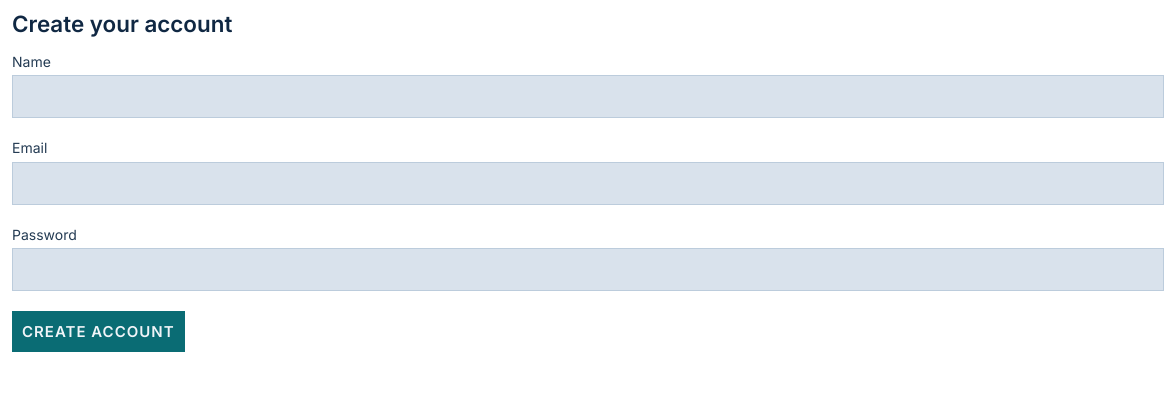
Test case: Signup workflow › shows email validation error after blurring with an invalid email
Type "bad-email" into the field labelled "Email" at (588, 183), box [12,162,1164,205]
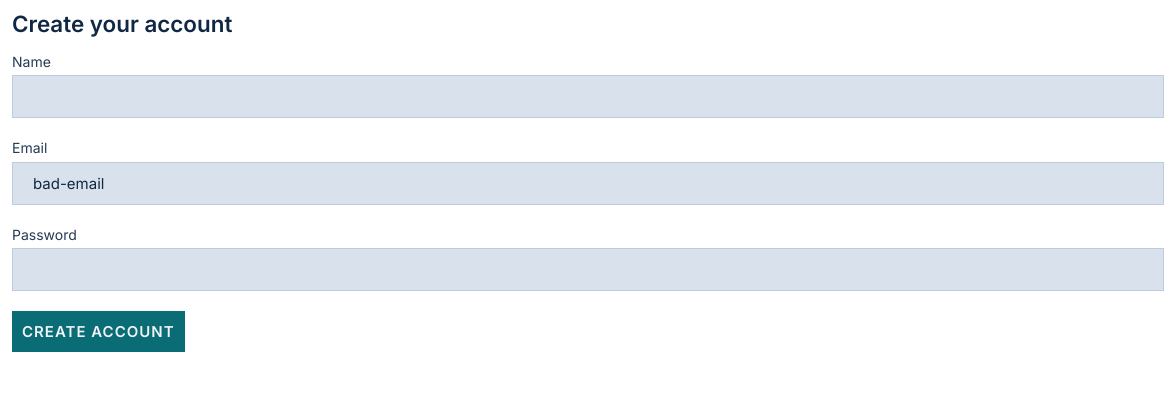
Leave the field labelled "Email", box [12,162,1164,205]
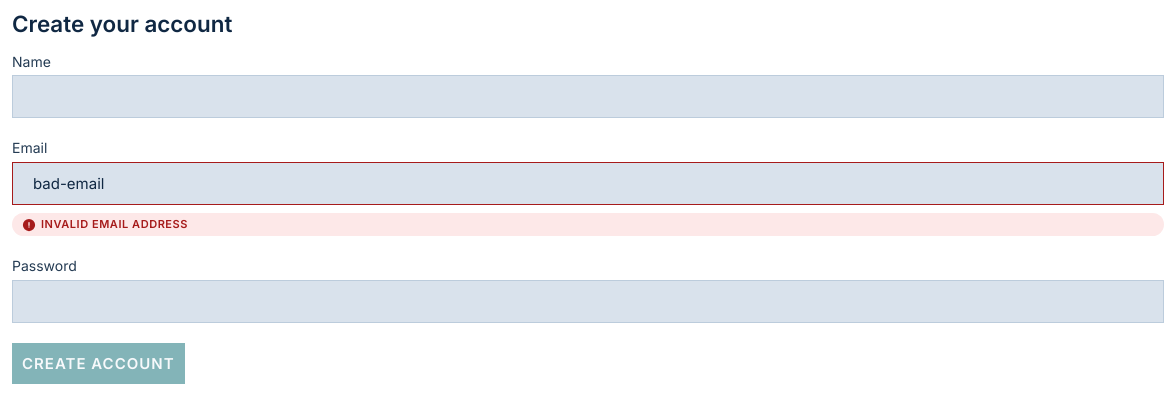
Check: the text "Invalid email address" is shown, box [12,213,1164,236]
